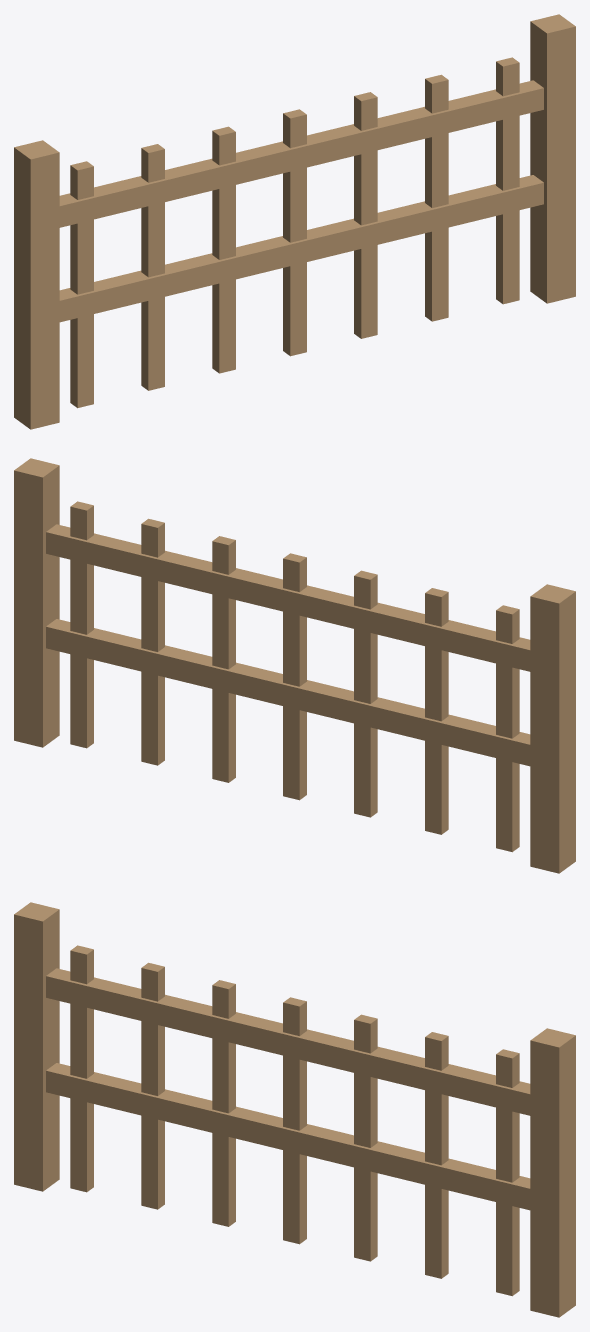
File: PROP-fence-01.glb
3 views of the same model, one above another, from view 1: azimuth 30°, elevation 25°; view 2: azimuth 150°, elevation 25°; view 3: azimuth 330°, elevation 25° (orthographic).
Visible parts, largest first — view 1: PROP-fence-01; view 2: PROP-fence-01; view 3: PROP-fence-01.
Part boxes in pixels (bbox=[...]): PROP-fence-01: bbox=[14, 14, 575, 429]; PROP-fence-01: bbox=[14, 458, 575, 873]; PROP-fence-01: bbox=[14, 902, 575, 1317].
Size of the model in its own units: 2.64 by 1.25 by 0.14.
